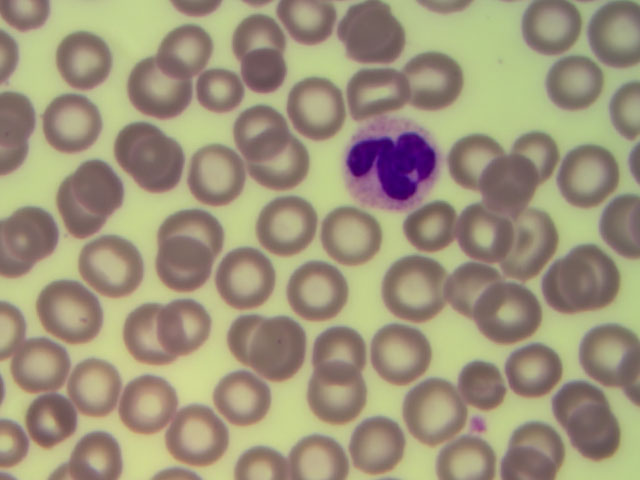Platelets: (466, 409, 490, 440)
RBC: (506, 418, 572, 480), (282, 418, 348, 480), (432, 418, 498, 480), (63, 418, 129, 480), (130, 57, 196, 118), (52, 28, 118, 89), (41, 94, 107, 155), (98, 112, 164, 173), (136, 141, 202, 202), (169, 141, 235, 202), (218, 93, 284, 154), (194, 63, 260, 124), (218, 38, 284, 99), (219, 5, 285, 66), (406, 48, 472, 109), (328, 62, 394, 123), (281, 78, 347, 139), (257, 135, 323, 196), (259, 200, 325, 261), (309, 200, 375, 261), (391, 193, 457, 254), (452, 203, 518, 264), (475, 150, 541, 211), (440, 129, 506, 190), (496, 121, 562, 182), (534, 52, 600, 113), (526, 5, 592, 66), (554, 147, 620, 208), (568, 248, 634, 309), (516, 263, 582, 324), (479, 288, 545, 349), (435, 266, 501, 327), (498, 210, 564, 271), (381, 261, 447, 322), (367, 323, 433, 384), (400, 382, 466, 443), (493, 336, 559, 397), (572, 322, 638, 383), (541, 364, 607, 425), (558, 392, 624, 453), (302, 318, 368, 379), (305, 365, 371, 426), (341, 406, 407, 467), (281, 258, 347, 319), (211, 250, 277, 311), (251, 326, 317, 387), (213, 304, 279, 365), (209, 363, 275, 424), (169, 405, 235, 466), (120, 380, 186, 441), (111, 306, 177, 367), (149, 294, 215, 355), (147, 241, 213, 302), (154, 207, 220, 268), (80, 235, 146, 296), (75, 156, 141, 217), (54, 178, 120, 239), (9, 203, 75, 264), (35, 280, 101, 341), (10, 329, 76, 390), (65, 352, 131, 413), (21, 384, 87, 445), (271, 1, 337, 61), (331, 1, 397, 61), (161, 26, 211, 68), (460, 359, 510, 401)
WBC: (346, 120, 445, 211)
